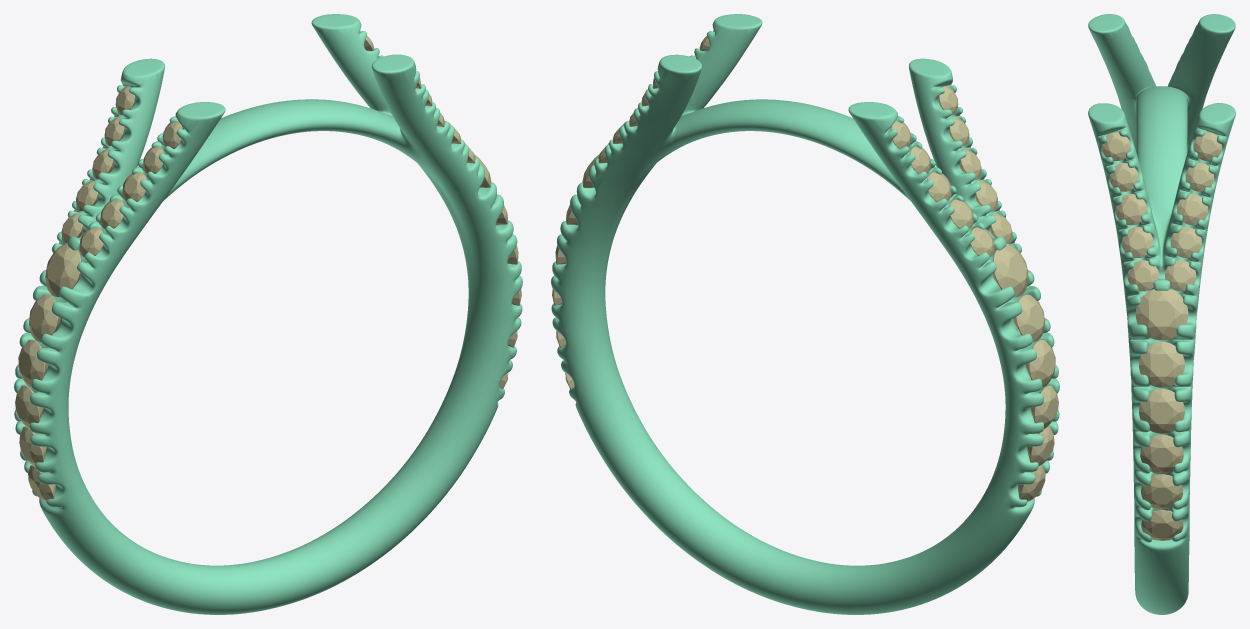
3 renders of one model, left to right at view 1: azimuth 30°, elevation 25°; view 2: azimuth 150°, elevation 25°; view 3: azimuth 270°, elevation 25°, orthographic. The views are drawn at different scales.
Visible parts, largest first — view 1: Metal02, Diamond_Gem.016, Diamond_Gem.017, Diamond_Gem.018, Diamond_Gem.019; view 2: Metal02, Diamond_Gem.016, Diamond_Gem.017, Diamond_Gem.018, Diamond_Gem.019; view 3: Metal02, Diamond_Gem.015, Diamond_Gem.014, Diamond_Gem.013, Diamond_Gem.012, Diamond_Gem.011, Diamond_Gem.010, Diamond_Gem.004, Diamond_Gem.005, Diamond_Gem.006, Diamond_Gem.003, Diamond_Gem.002 (+5 smaller).
Part boxes in pixels (x1=…): Metal02: x1=14, y1=14, x2=522, y2=614; Diamond_Gem.016: x1=45, y1=244, x2=81, y2=297; Diamond_Gem.017: x1=29, y1=294, x2=60, y2=341; Diamond_Gem.018: x1=18, y1=339, x2=48, y2=387; Diamond_Gem.019: x1=15, y1=385, x2=43, y2=428; Metal02: x1=551, y1=14, x2=1059, y2=614; Diamond_Gem.016: x1=992, y1=244, x2=1028, y2=297; Diamond_Gem.017: x1=1013, y1=294, x2=1044, y2=341; Diamond_Gem.018: x1=1025, y1=339, x2=1055, y2=387; Diamond_Gem.019: x1=1030, y1=385, x2=1058, y2=428; Metal02: x1=1088, y1=14, x2=1235, y2=614; Diamond_Gem.015: x1=1135, y1=289, x2=1188, y2=340; Diamond_Gem.014: x1=1139, y1=341, x2=1184, y2=387; Diamond_Gem.013: x1=1139, y1=388, x2=1184, y2=433; Diamond_Gem.012: x1=1140, y1=434, x2=1183, y2=474; Diamond_Gem.011: x1=1141, y1=474, x2=1182, y2=509; Diamond_Gem.010: x1=1141, y1=510, x2=1183, y2=540; Diamond_Gem.004: x1=1165, y1=260, x2=1196, y2=291; Diamond_Gem.005: x1=1127, y1=260, x2=1158, y2=291; Diamond_Gem.006: x1=1122, y1=227, x2=1153, y2=257; Diamond_Gem.003: x1=1170, y1=227, x2=1201, y2=257; Diamond_Gem.002: x1=1177, y1=194, x2=1208, y2=225.
Bounding box in the file's own units: 20.92 × 21.88 × 5.61.
